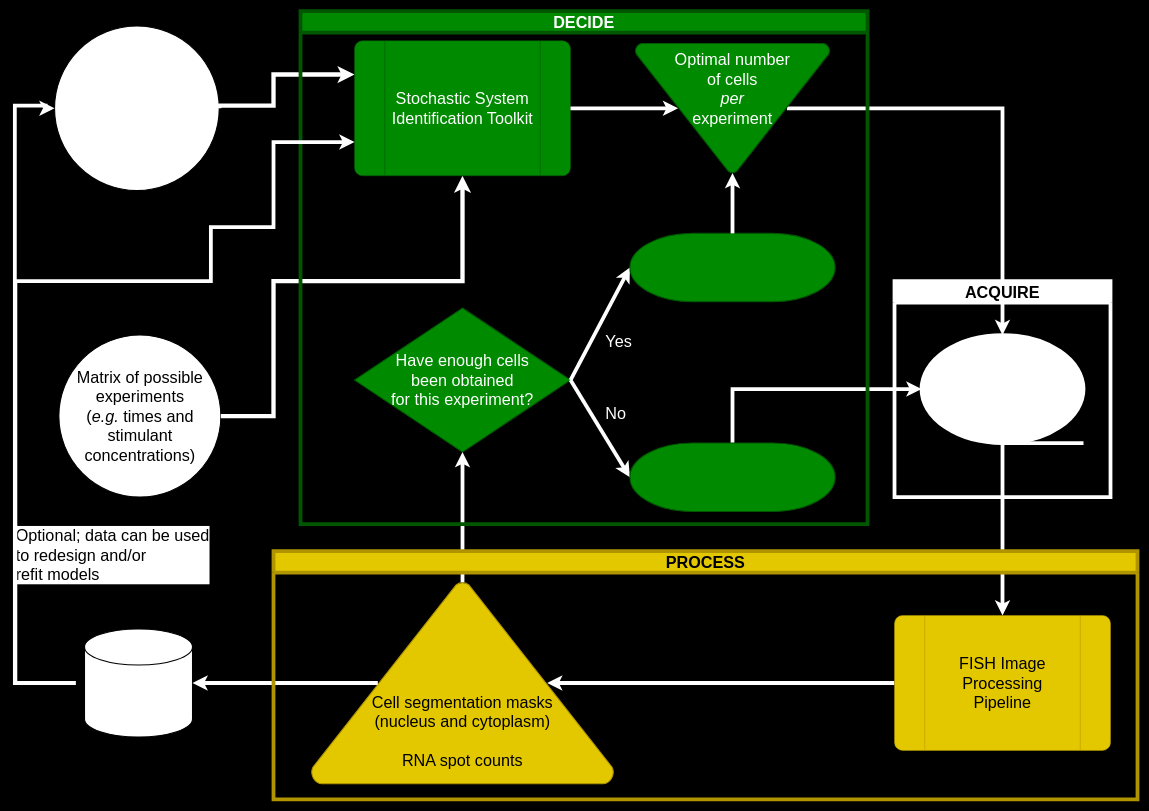
The diagram is 1149 pixels wide and 811 high, and some of its shapes have lost their labels. The shapes that lost their labels are listed below. From the top down, each one's centre as x and y in pixels, then its label:
(x=137, y=108): Initial model of gene expression
(x=732, y=267): End this experiment; Go to next experiment/well
(x=1002, y=389): Sequence of images from multi-dimensional acquisition
(x=732, y=477): Move to next FOV in this experiment; continue imaging
(x=138, y=682): Database
